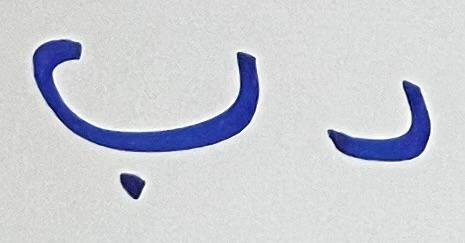beh: (24, 25, 269, 203)
dal: (323, 75, 437, 165)
